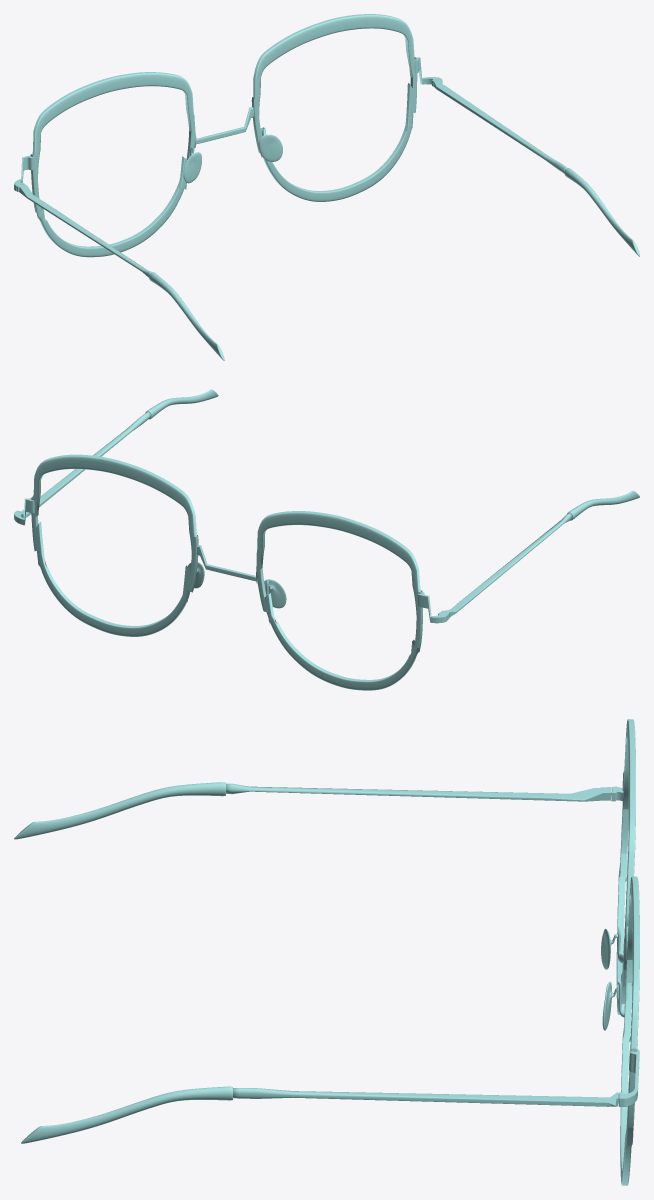
3 renders of one model, top to bottom at view 1: azimuth 30°, elevation 25°; view 2: azimuth 150°, elevation 25°; view 3: azimuth 270°, elevation 25°, orthographic. The views are drawn at different scales.
Visible parts, largest first — view 1: _Metal_Frame_Reading_Glasses_V2_Max2011_iterations_2:_Metal_; view 2: _Metal_Frame_Reading_Glasses_V2_Max2011_iterations_2:_Metal_; view 3: _Metal_Frame_Reading_Glasses_V2_Max2011_iterations_2:_Metal_.
Boxes of the visible parts, x1,y1,x2,y2 form: _Metal_Frame_Reading_Glasses_V2_Max2011_iterations_2:_Metal_: [14, 14, 639, 360]; _Metal_Frame_Reading_Glasses_V2_Max2011_iterations_2:_Metal_: [14, 389, 639, 690]; _Metal_Frame_Reading_Glasses_V2_Max2011_iterations_2:_Metal_: [14, 719, 639, 1185].
Size of the model in its own units: 16 by 6.33 by 13.52.
